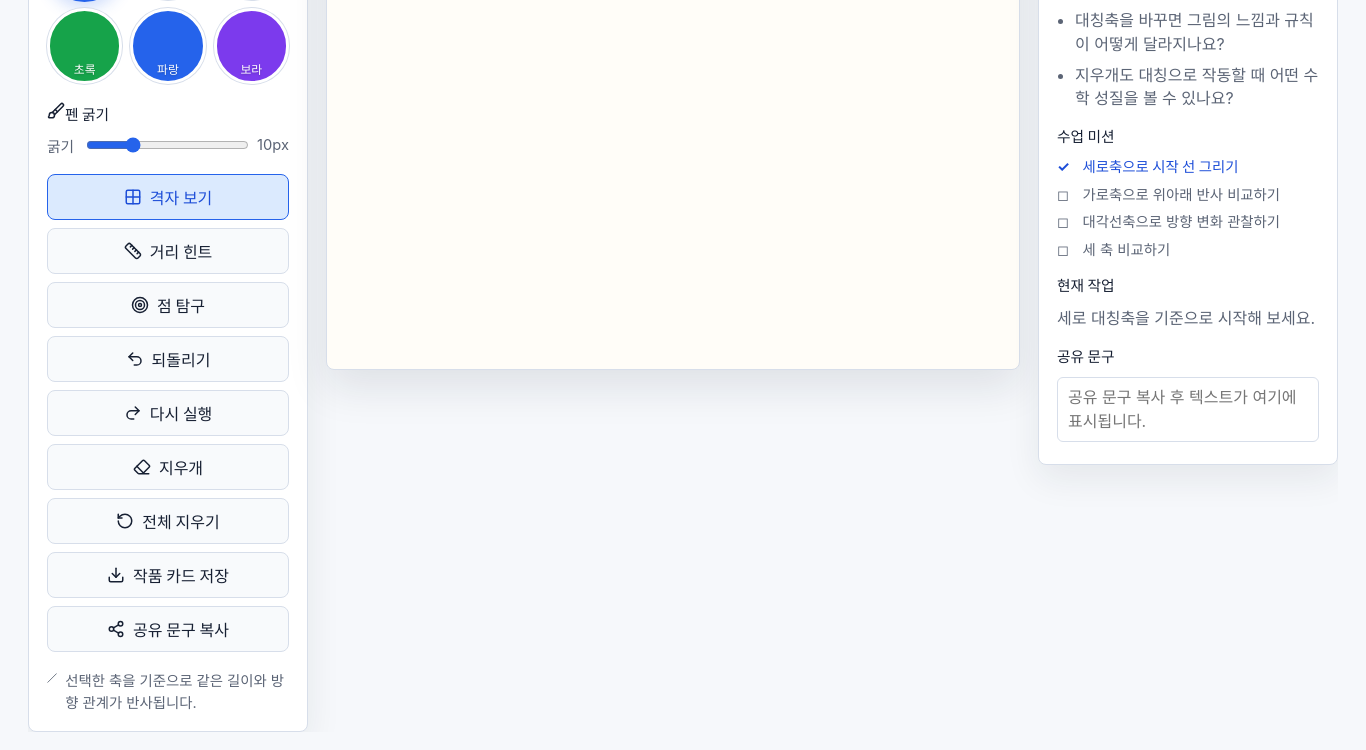
Scenario: Symmetry Art Studio app shell › creates an artwork card data URL with an informative filename
(page scrolled)
What coordinates should you click on to do the following:
click the button "작품 카드 저장"
I would click on:
 (168, 575)
Its box is [47,552,289,598].
(page scrolled)
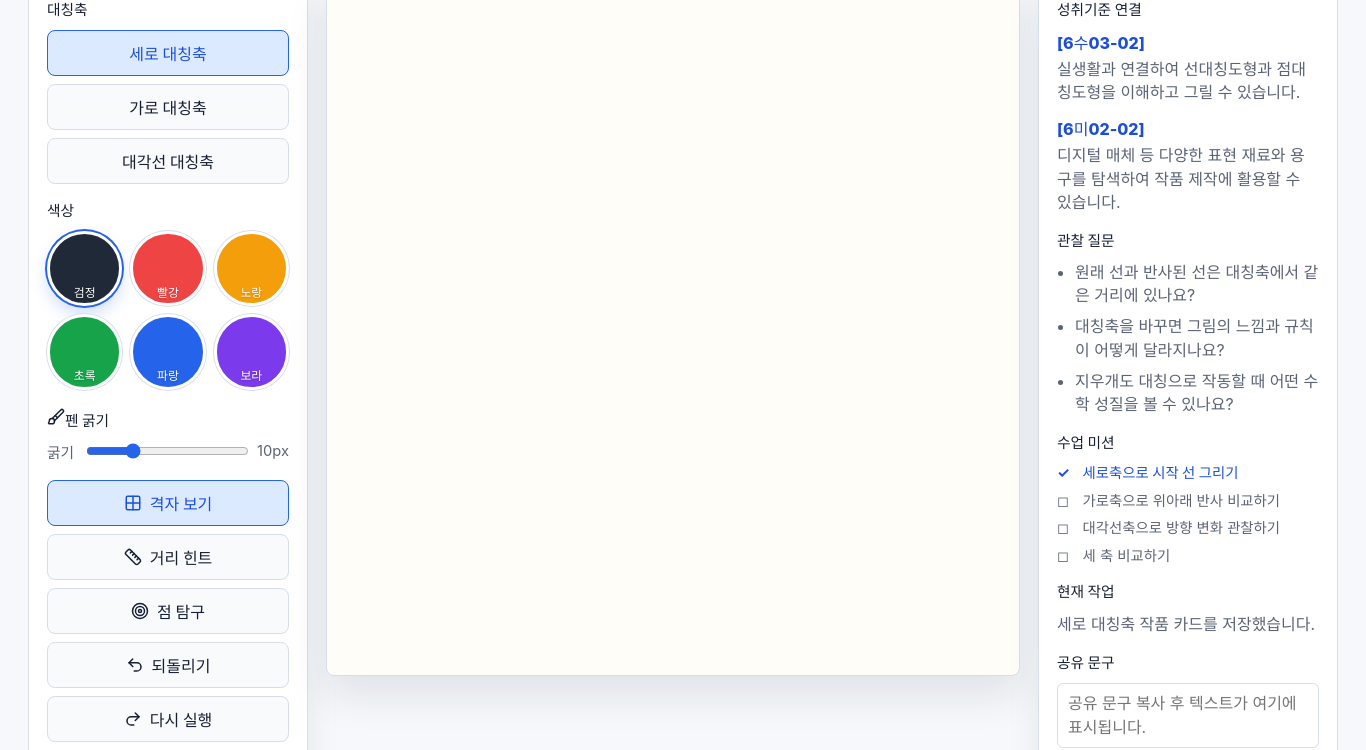
Now the element named "수업 관찰 질문" shows "세로 대칭축 작품 카드를 저장했습니다.", box [1057,614,1315,634]
